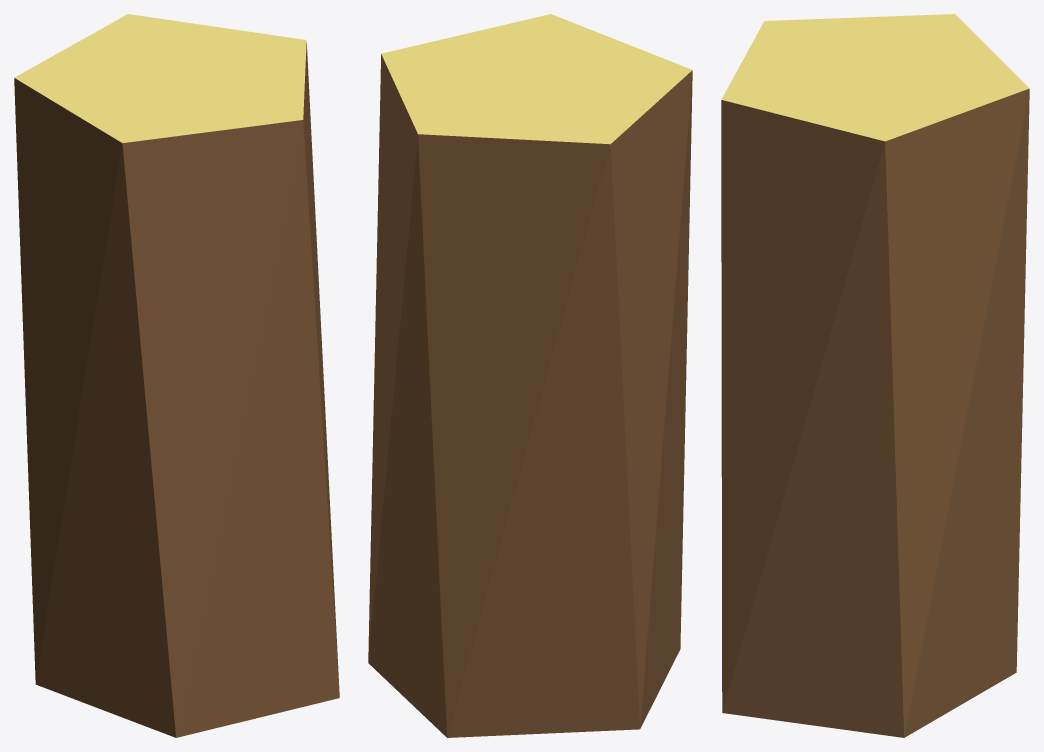
Rendered from log.glb.
3 renders of one model, left to right at view 1: azimuth 30°, elevation 25°; view 2: azimuth 150°, elevation 25°; view 3: azimuth 270°, elevation 25°, orthographic. The views are drawn at different scales.
Visible parts, largest first — view 1: Circle.001; view 2: Circle.001; view 3: Circle.001.
Boxes of the visible parts, bbox=[...] form: Circle.001: bbox=[14, 14, 339, 737]; Circle.001: bbox=[368, 14, 692, 737]; Circle.001: bbox=[721, 14, 1029, 737].
Size of the model in its own units: 0.4319 by 0.9155 by 0.4303.
